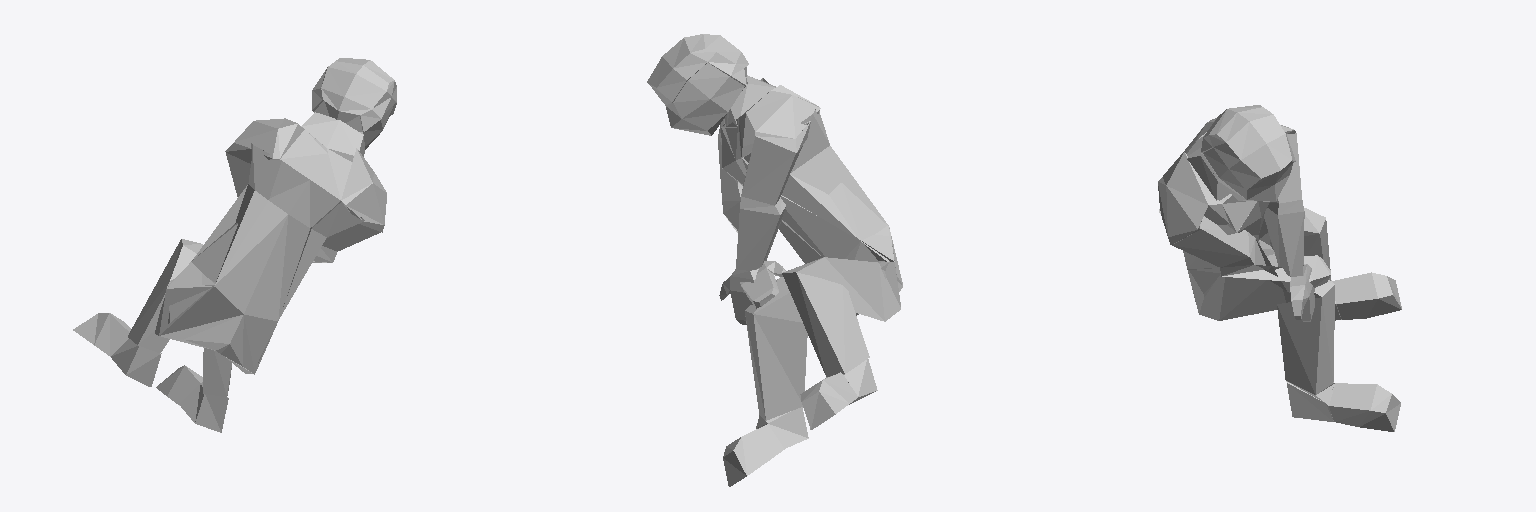
The model's file is npc03pose.obj.
3 renders of one model, left to right at view 1: azimuth 30°, elevation 25°; view 2: azimuth 150°, elevation 25°; view 3: azimuth 270°, elevation 25°, orthographic.
Parts seen in each view (by area): view 1: Cube.002_Cube.004; view 2: Cube.002_Cube.004; view 3: Cube.002_Cube.004.
Boxes of the visible parts, <box> form: Cube.002_Cube.004: <box>73,58,396,432</box>; Cube.002_Cube.004: <box>647,34,902,486</box>; Cube.002_Cube.004: <box>1158,105,1401,431</box>.
Bounding box in the file's own units: 0.7153 × 1.01 × 0.6032.